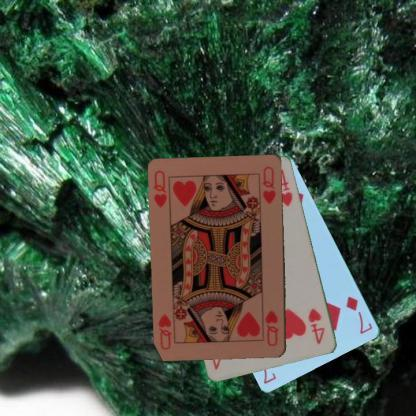4h: (306, 306, 326, 346)
7d: (344, 294, 375, 336)
Qh: (263, 307, 280, 348), (152, 168, 168, 210)
